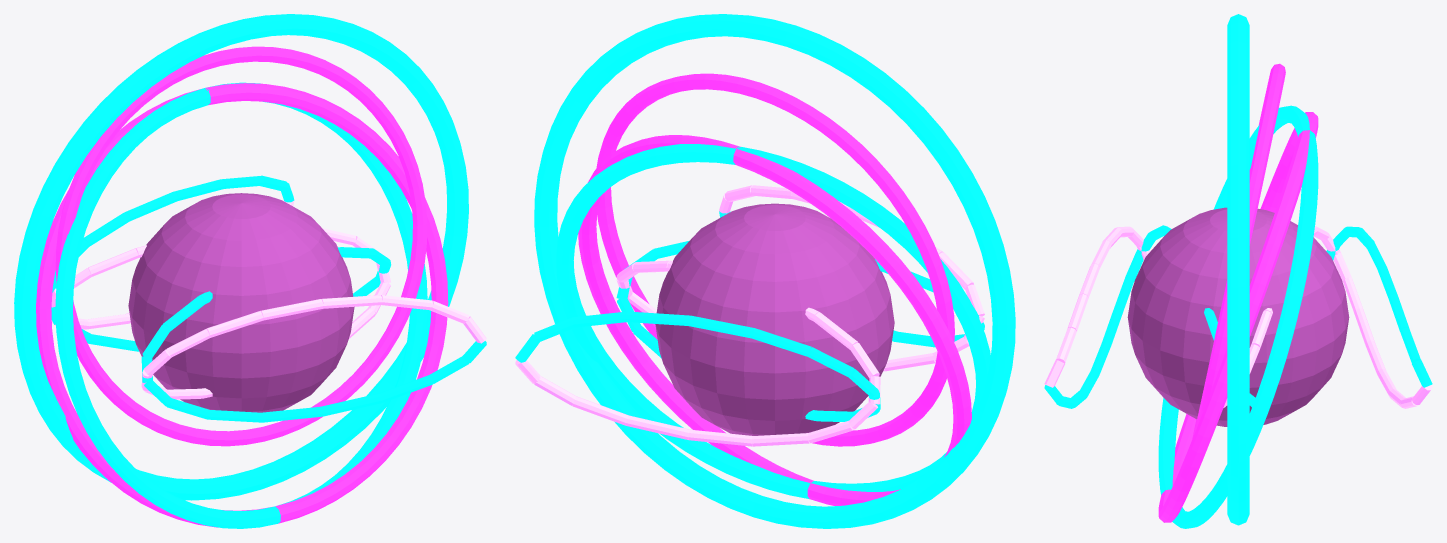
The model's file is spiral_drifter.glb.
3 renders of one model, left to right at view 1: azimuth 30°, elevation 25°; view 2: azimuth 150°, elevation 25°; view 3: azimuth 270°, elevation 25°, orthographic. The views are drawn at different scales.
Visible parts, largest first — view 1: SpiralDarkCore, SpiralReadabilityCyanOuterCage, SpiralCyanTiltRing, SpiralReadabilityMagentaOuterCage, SpiralMagentaCounterRing, SpiralHelix1_5, SpiralHelix-1_4, SpiralHelix-1_5, SpiralHelix1_4, SpiralHelix1_6, SpiralHelix-1_29, SpiralHelix-1_3 (+4 smaller); view 2: SpiralDarkCore, SpiralReadabilityCyanOuterCage, SpiralCyanTiltRing, SpiralMagentaCounterRing, SpiralReadabilityMagentaOuterCage, SpiralHelix-1_29, SpiralHelix1_30, SpiralHelix1_29, SpiralHelix-1_30, SpiralHelix-1_28, SpiralHelix1_31, SpiralHelix1_28 (+2 smaller); view 3: SpiralDarkCore, SpiralReadabilityCyanOuterCage, SpiralCyanTiltRing, SpiralMagentaCounterRing, SpiralReadabilityMagentaOuterCage.
Boxes of the visible parts, bbox=[...] form: SpiralDarkCore: bbox=[128, 193, 354, 412]; SpiralReadabilityCyanOuterCage: bbox=[14, 14, 468, 500]; SpiralCyanTiltRing: bbox=[55, 82, 427, 528]; SpiralReadabilityMagentaOuterCage: bbox=[55, 46, 427, 446]; SpiralMagentaCounterRing: bbox=[36, 83, 448, 527]; SpiralHelix1_5: bbox=[260, 299, 323, 320]; SpiralHelix-1_4: bbox=[321, 393, 382, 416]; SpiralHelix-1_5: bbox=[262, 406, 323, 422]; SpiralHelix1_4: bbox=[321, 295, 382, 308]; SpiralHelix1_6: bbox=[206, 311, 263, 337]; SpiralHelix-1_29: bbox=[124, 192, 178, 221]; SpiralHelix-1_3: bbox=[379, 375, 432, 402]; SpiralDarkCore: bbox=[655, 203, 894, 435]; SpiralReadabilityCyanOuterCage: bbox=[534, 14, 1015, 528]; SpiralCyanTiltRing: bbox=[556, 144, 990, 499]; SpiralMagentaCounterRing: bbox=[578, 135, 971, 505]; SpiralReadabilityMagentaOuterCage: bbox=[596, 73, 954, 446]; SpiralHelix-1_29: bbox=[688, 315, 754, 338]; SpiralHelix1_30: bbox=[625, 415, 690, 439]; SpiralHelix1_29: bbox=[688, 429, 752, 446]; SpiralHelix-1_30: bbox=[625, 311, 689, 325]; SpiralHelix-1_28: bbox=[751, 328, 811, 356]; SpiralHelix1_31: bbox=[572, 396, 628, 425]; SpiralHelix1_28: bbox=[751, 433, 809, 446]; SpiralDarkCore: bbox=[1127, 207, 1349, 426]; SpiralReadabilityCyanOuterCage: bbox=[1227, 14, 1249, 525]; SpiralCyanTiltRing: bbox=[1158, 105, 1318, 528]; SpiralMagentaCounterRing: bbox=[1158, 112, 1318, 522]; SpiralReadabilityMagentaOuterCage: bbox=[1192, 63, 1285, 438].
Bounding box in the file's own units: 2.02 × 2.03 × 1.53.
